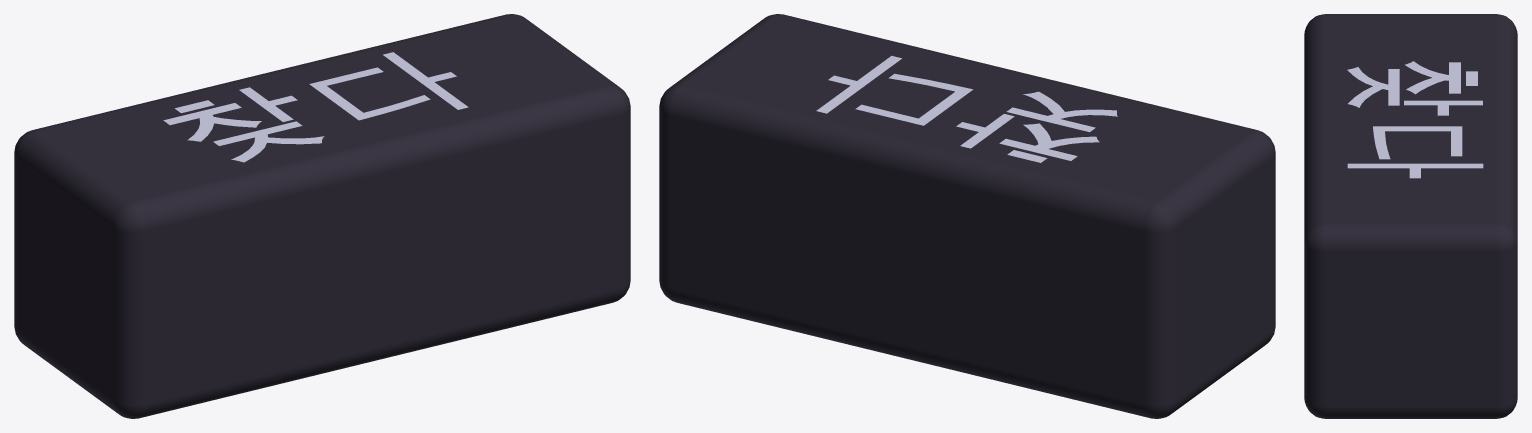
Rendered from look_for.glb.
3 renders of one model, left to right at view 1: azimuth 30°, elevation 25°; view 2: azimuth 150°, elevation 25°; view 3: azimuth 270°, elevation 25°, orthographic. The views are drawn at different scales.
Parts seen in each view (by area): view 1: Cut, Extrude; view 2: Cut, Extrude; view 3: Cut, Extrude.
Boxes of the visible parts, box(x1,y1,x2,y2) form: Cut: box(14, 14, 630, 418); Extrude: box(163, 52, 468, 162); Cut: box(659, 14, 1275, 418); Extrude: box(816, 55, 1117, 162); Cut: box(1304, 14, 1517, 418); Extrude: box(1347, 61, 1483, 178).
Size of the model in its own units: 5 by 2 by 2.
